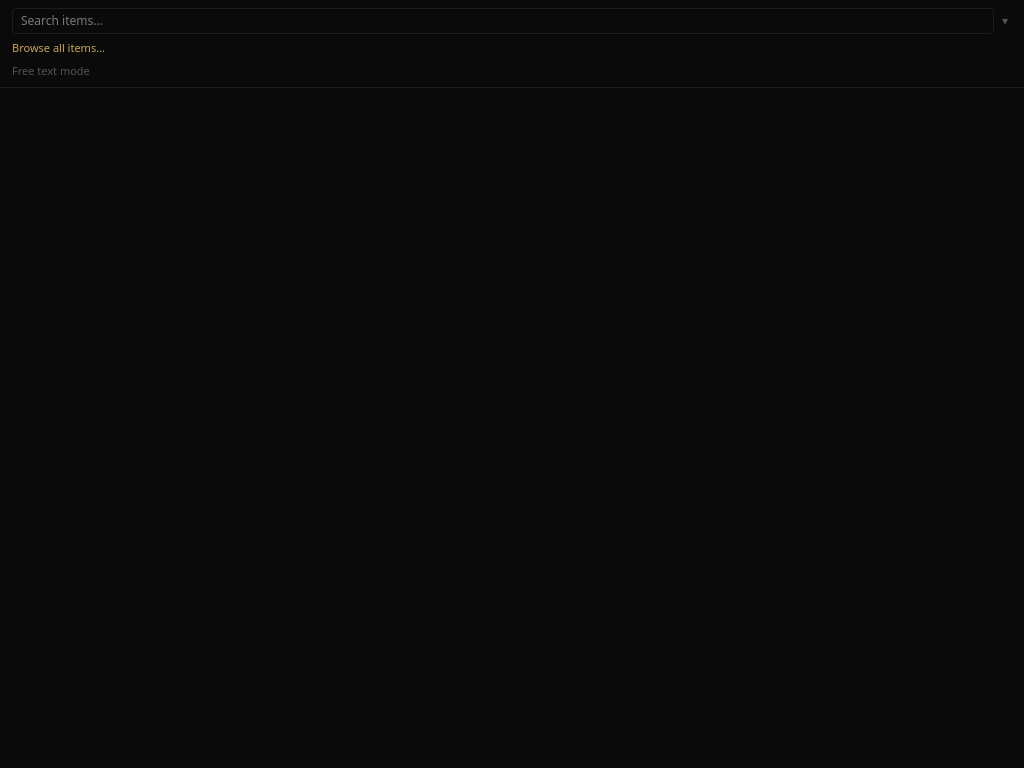
Test: GearSlot › equipping a set item renders it read-only — no "+ Add affix" (sets are fixed, like uniques)
Click the button "Browse all items…" at (58, 48), box [12,40,105,56]
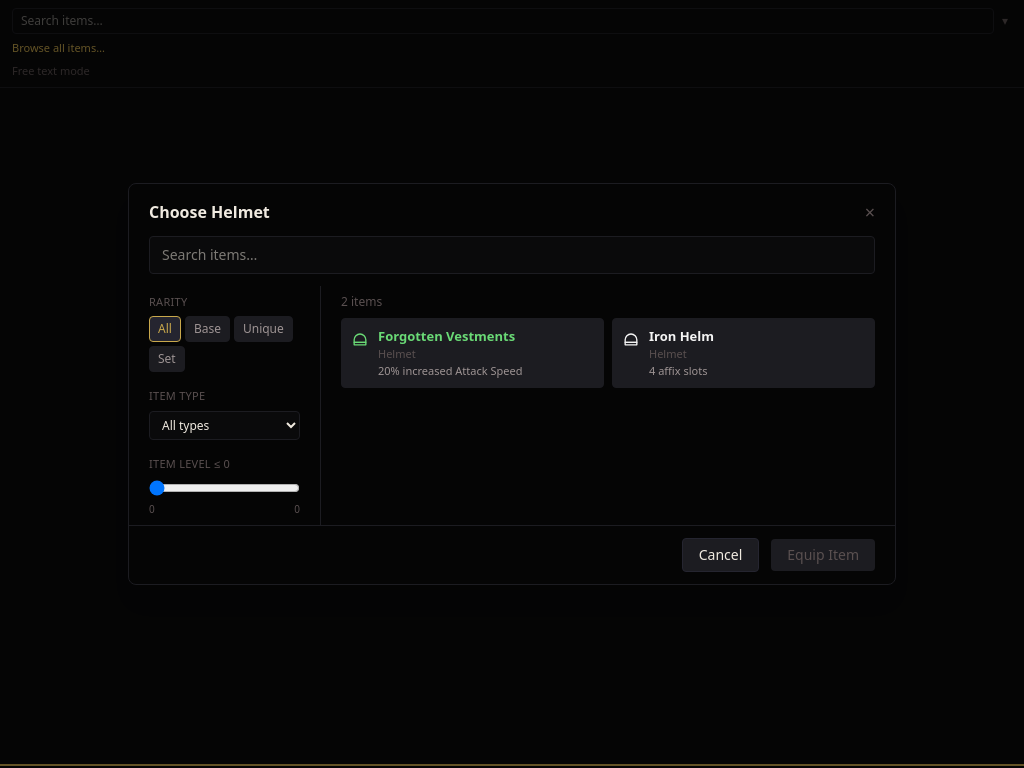
Click the button "Set" at (167, 359), box [149,346,185,372]
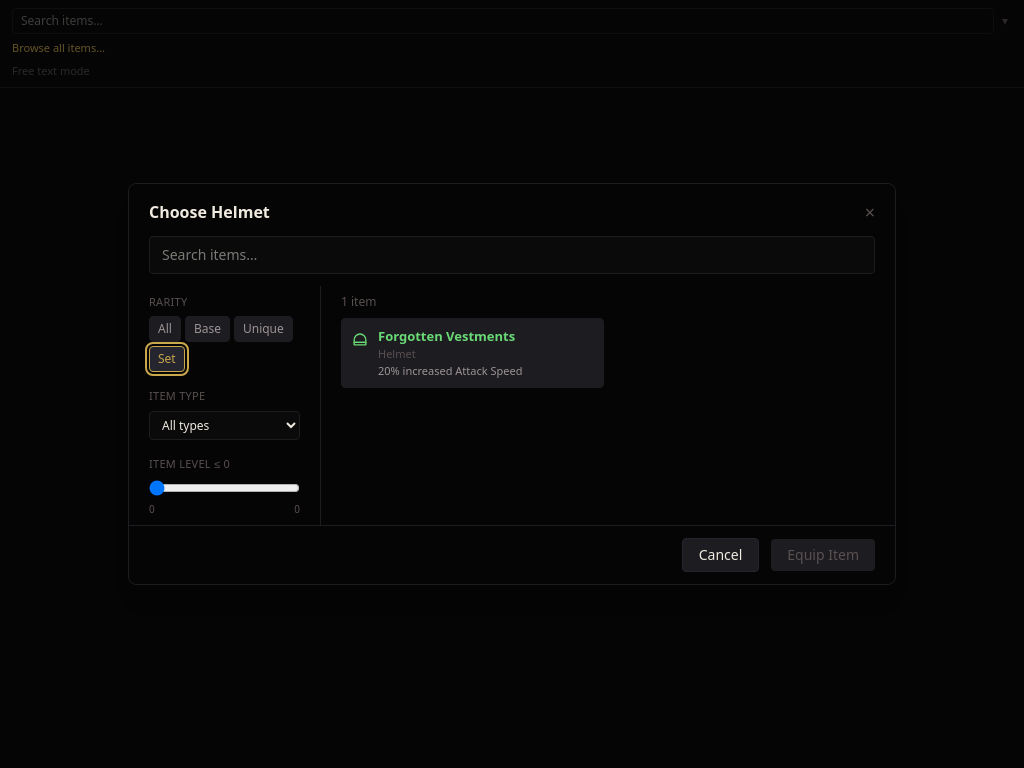
Double-click the cell named "Forgotten Vestments, Helmet" at (447, 336), box [341,318,604,388]
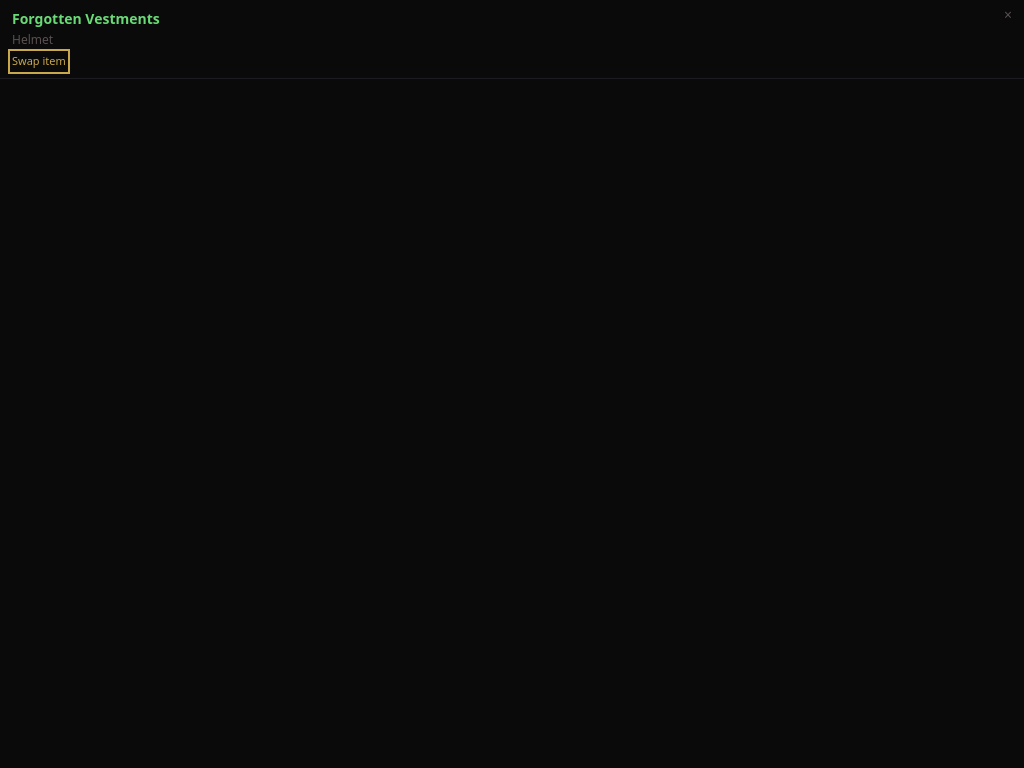
Expected: the button with aria-label "Swap Helmet" is shown, [12,53,66,70]
